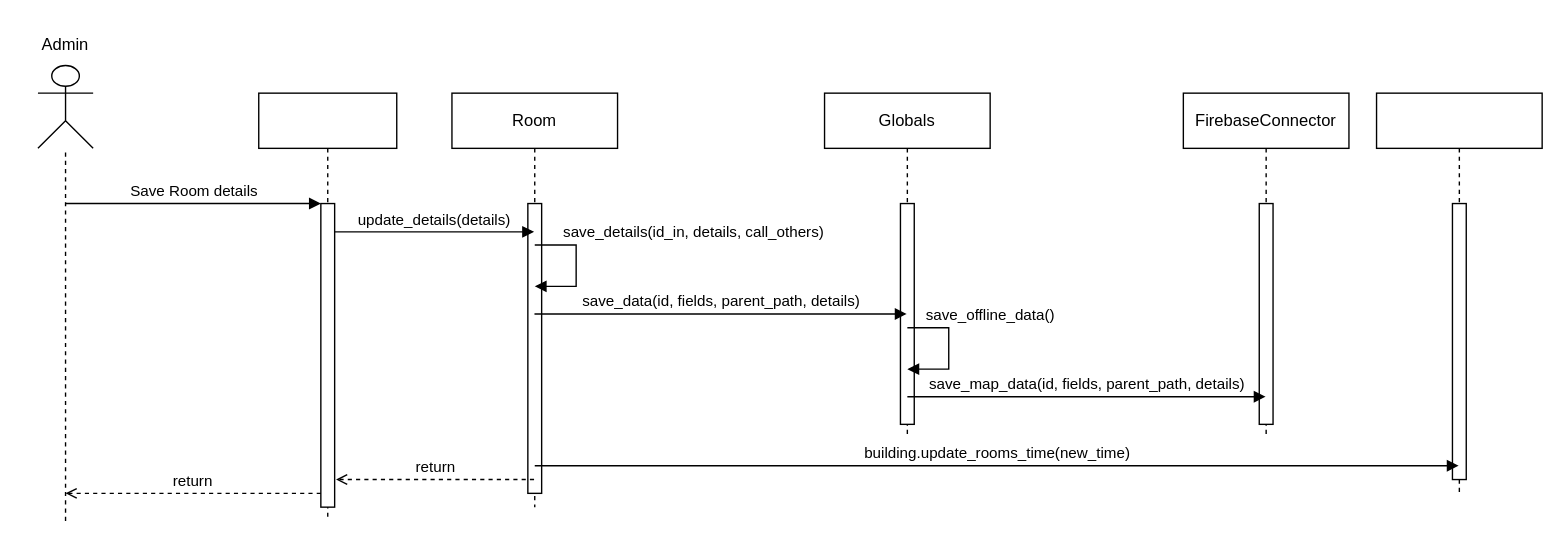
This 1566x546 diagram has some shape labels left out. The box of each missing label's shape, as (x1, y1, x2, y2) in pixels:
AdminUIRoot: (257, 92, 397, 521)
Building: (1375, 92, 1542, 493)
